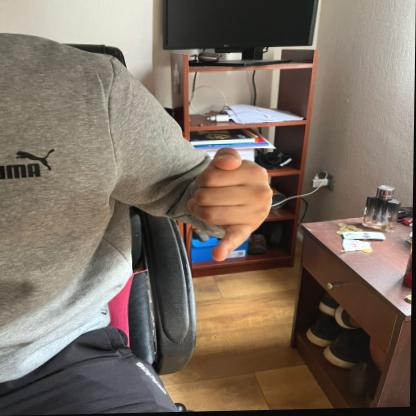Z: (189, 144, 279, 267)
